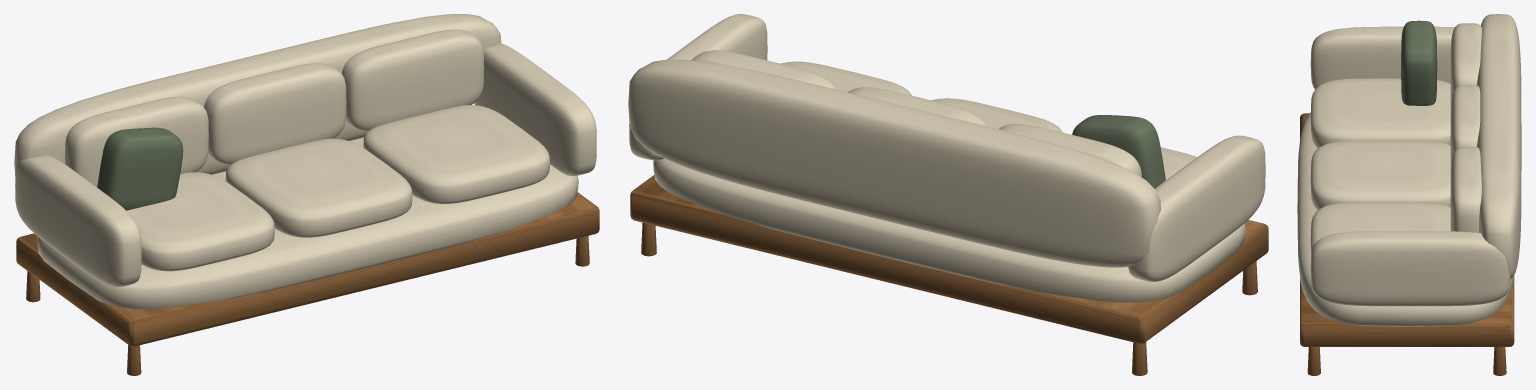
The model's file is sofa-fabric.glb.
3 views of the same model, side by side, from view 1: azimuth 30°, elevation 25°; view 2: azimuth 150°, elevation 25°; view 3: azimuth 270°, elevation 25° (orthographic). The views are drawn at different scales.
Visible parts, largest first — view 1: sofa-fabric-mesh; view 2: sofa-fabric-mesh; view 3: sofa-fabric-mesh.
Boxes of the visible parts, x1=… form: sofa-fabric-mesh: x1=14, y1=14, x2=599, y2=375; sofa-fabric-mesh: x1=628, y1=14, x2=1268, y2=375; sofa-fabric-mesh: x1=1297, y1=14, x2=1521, y2=375.
Bounding box in the file's own units: 2.2 × 0.8 × 0.95.
3 materials, 3 textured.
